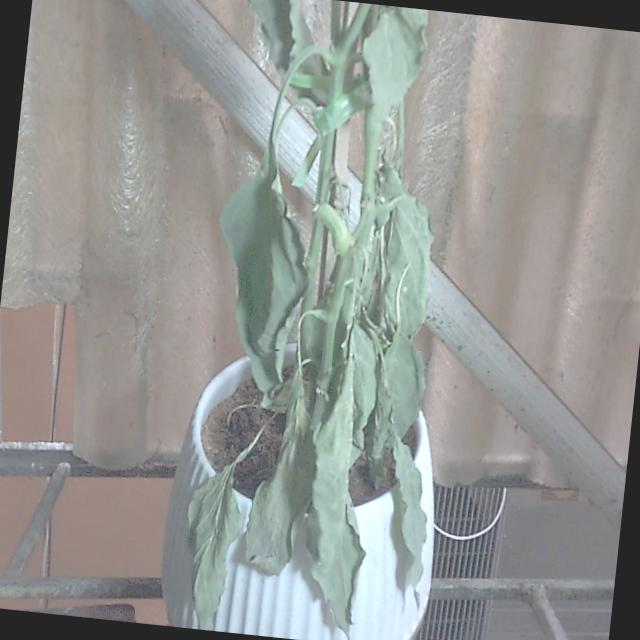Leaf: (220, 150, 306, 399), (307, 362, 364, 634), (246, 374, 315, 574), (363, 7, 427, 120)
